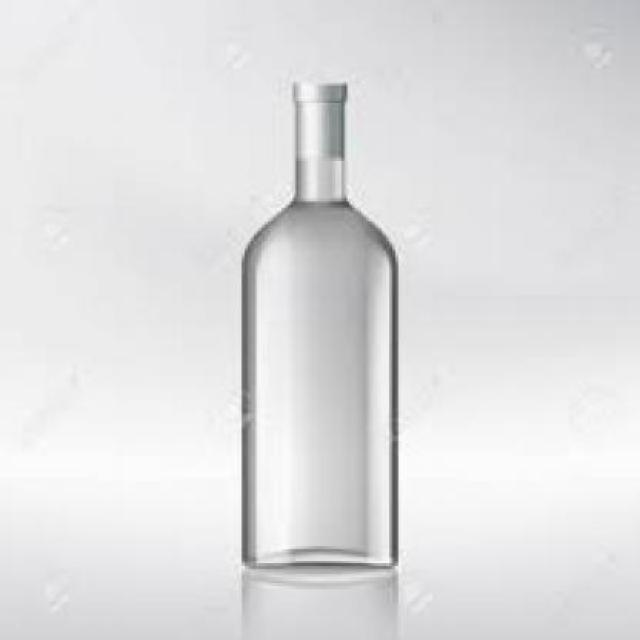kaca: (238, 80, 392, 572)
